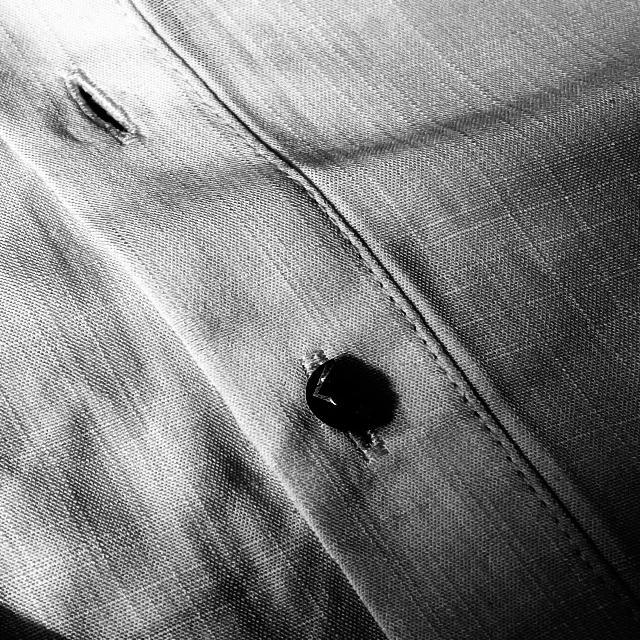Broken_button: (293, 353, 404, 456)
